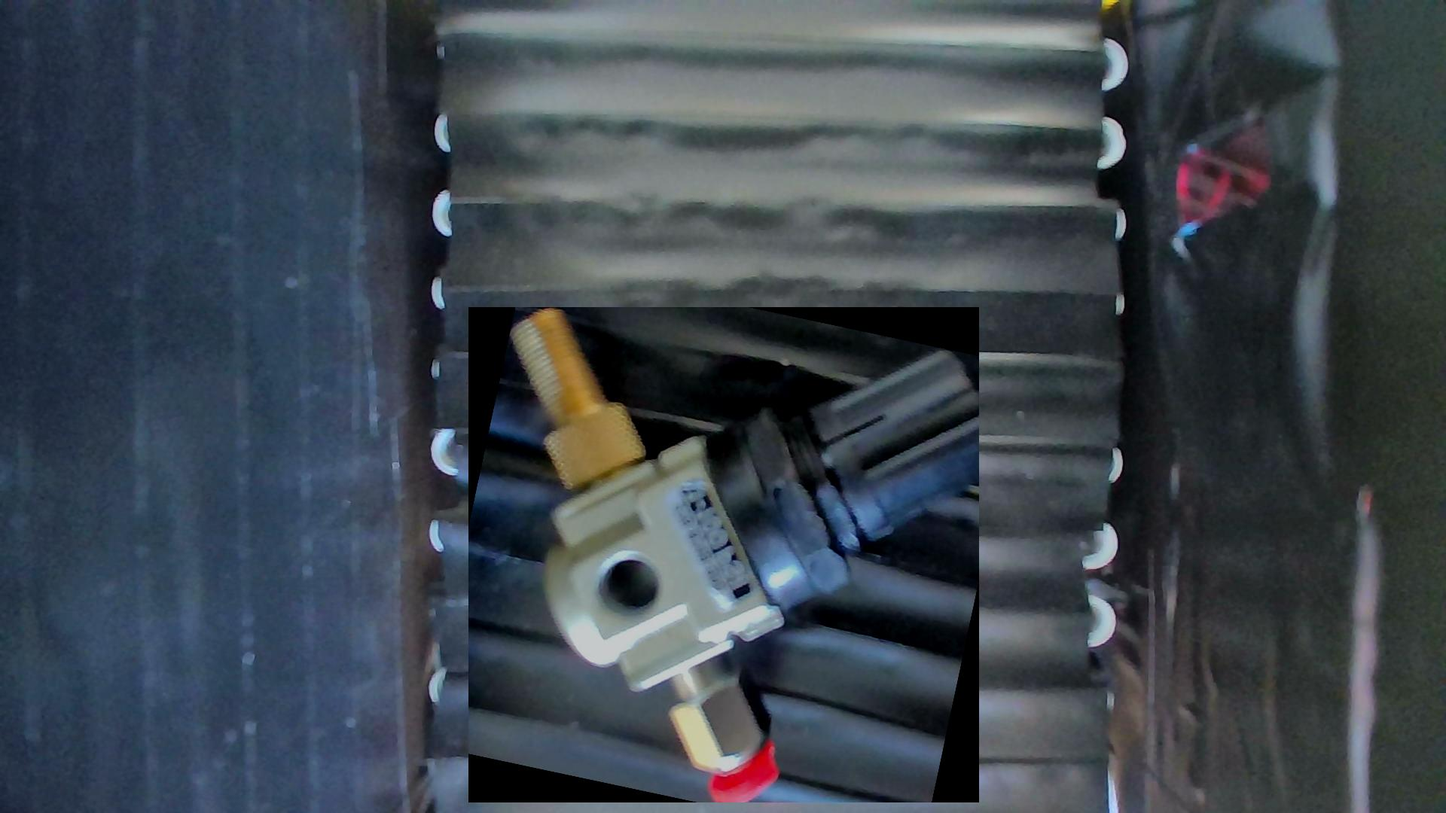regulator: (468, 307, 979, 803)
